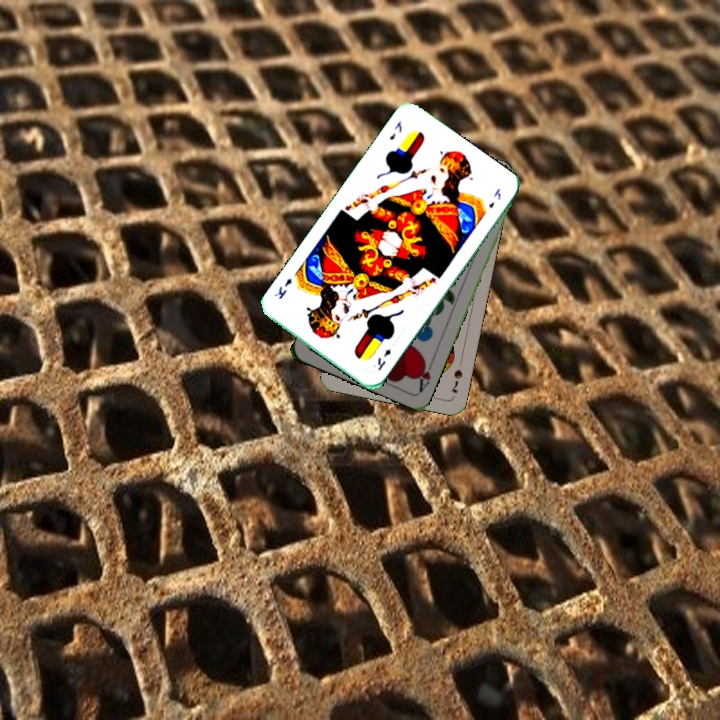EK: (373, 344, 394, 373), (385, 117, 405, 143)
HA: (413, 355, 436, 395)
S7: (447, 365, 465, 396)
